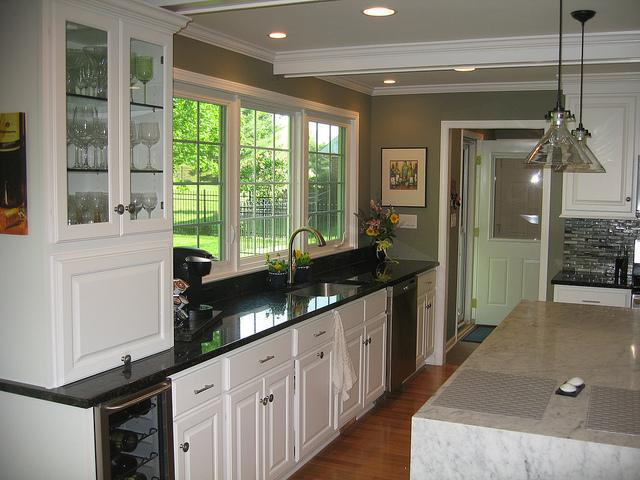Lavaplatos: (272, 225, 376, 304)
